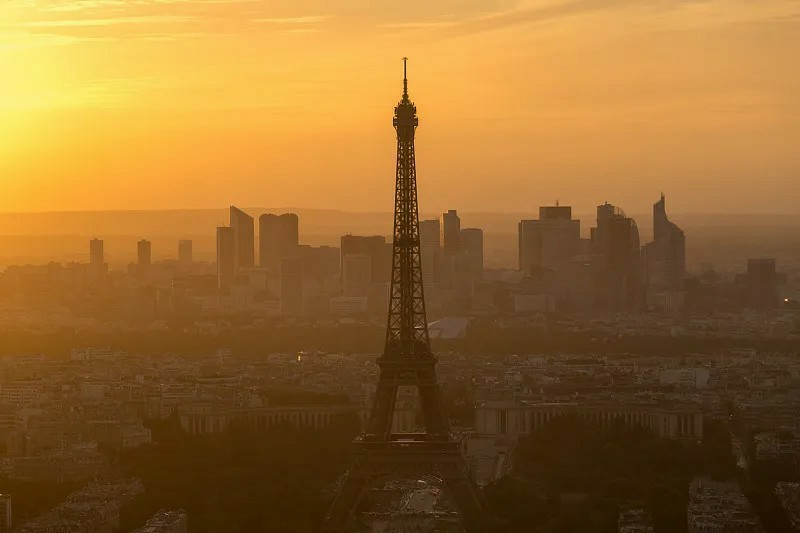Eiffel: (320, 58, 489, 533)
